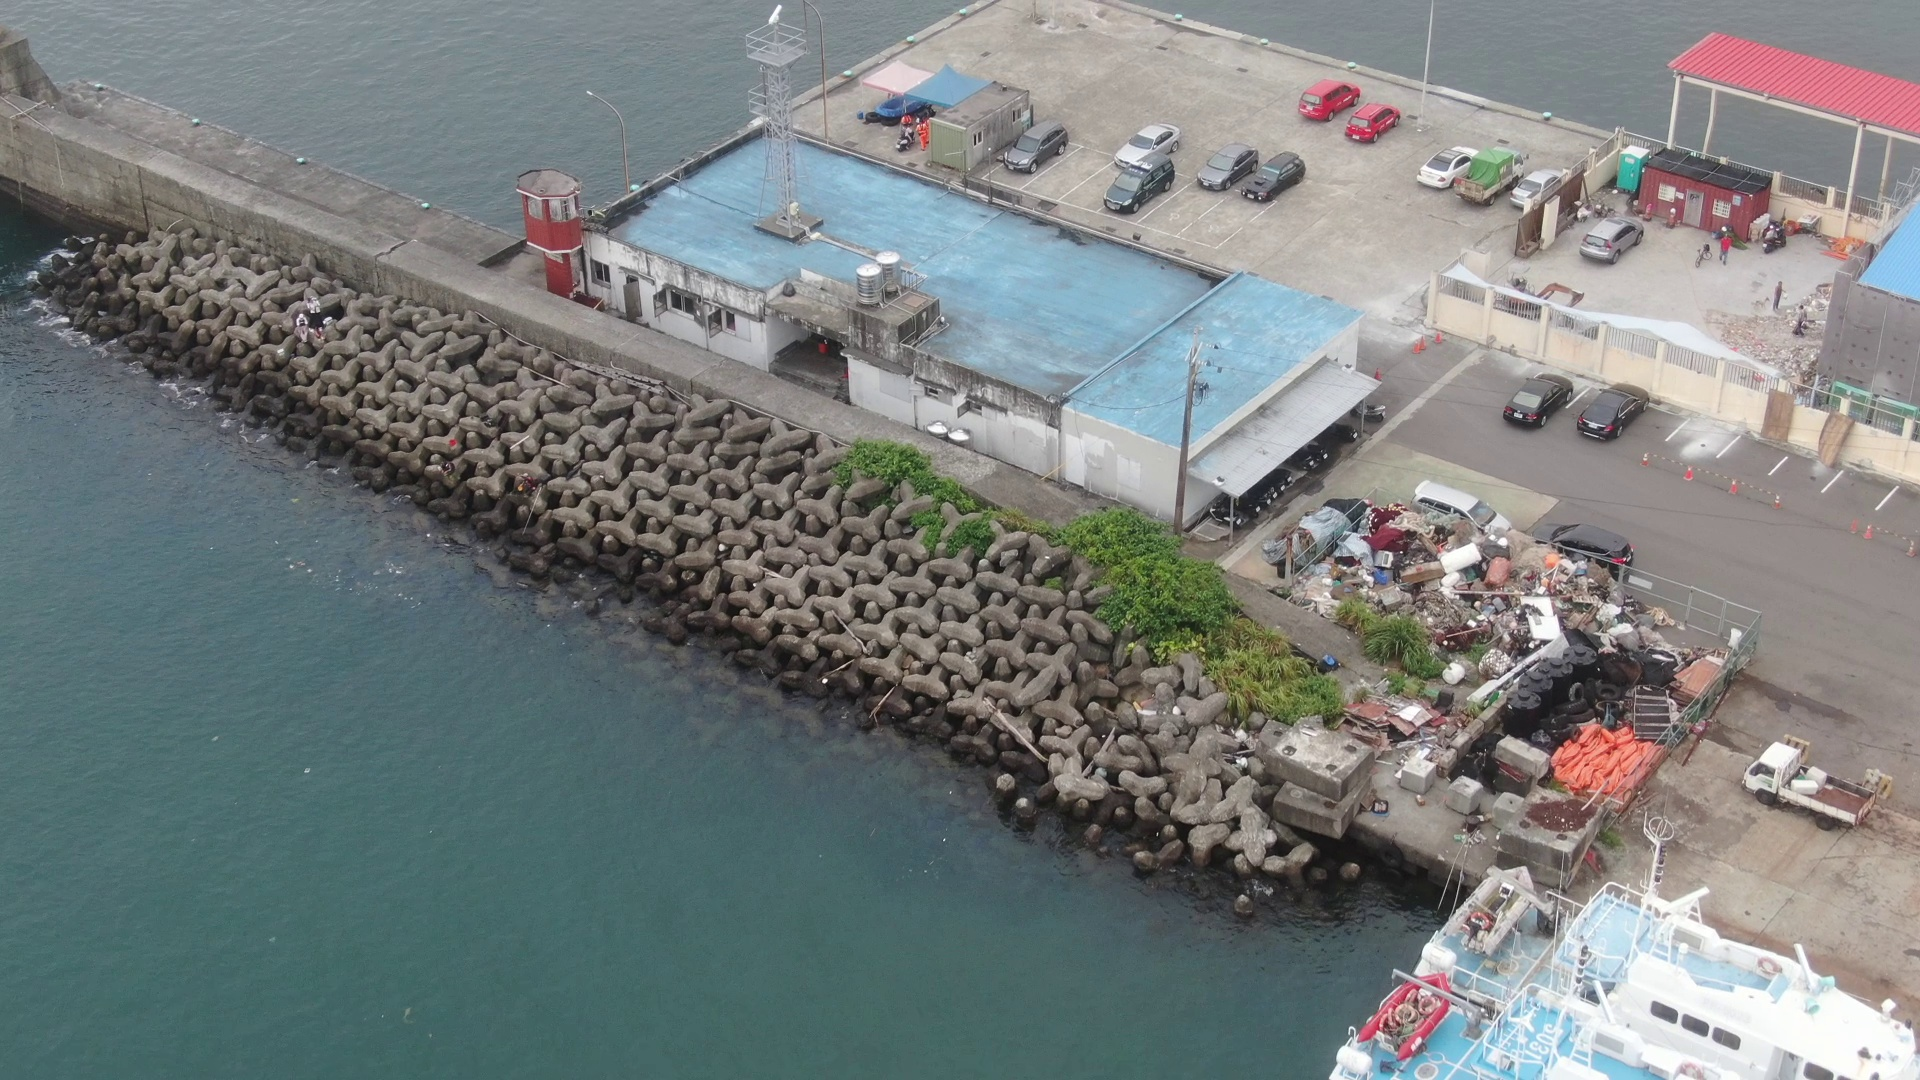garbage: (1317, 491, 1706, 818), (287, 287, 359, 351)
